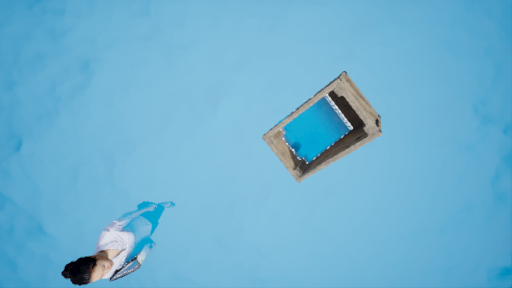person: (65, 195, 179, 283)
